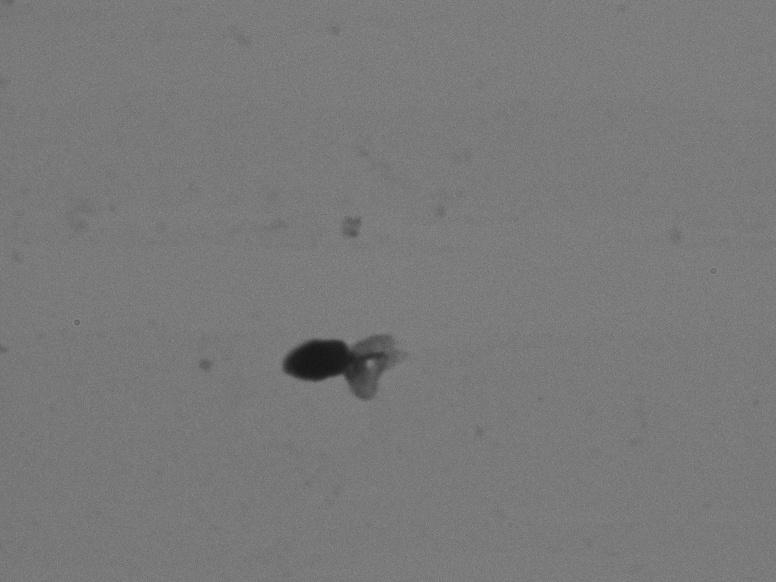Abnormal: (229, 276, 459, 445)
